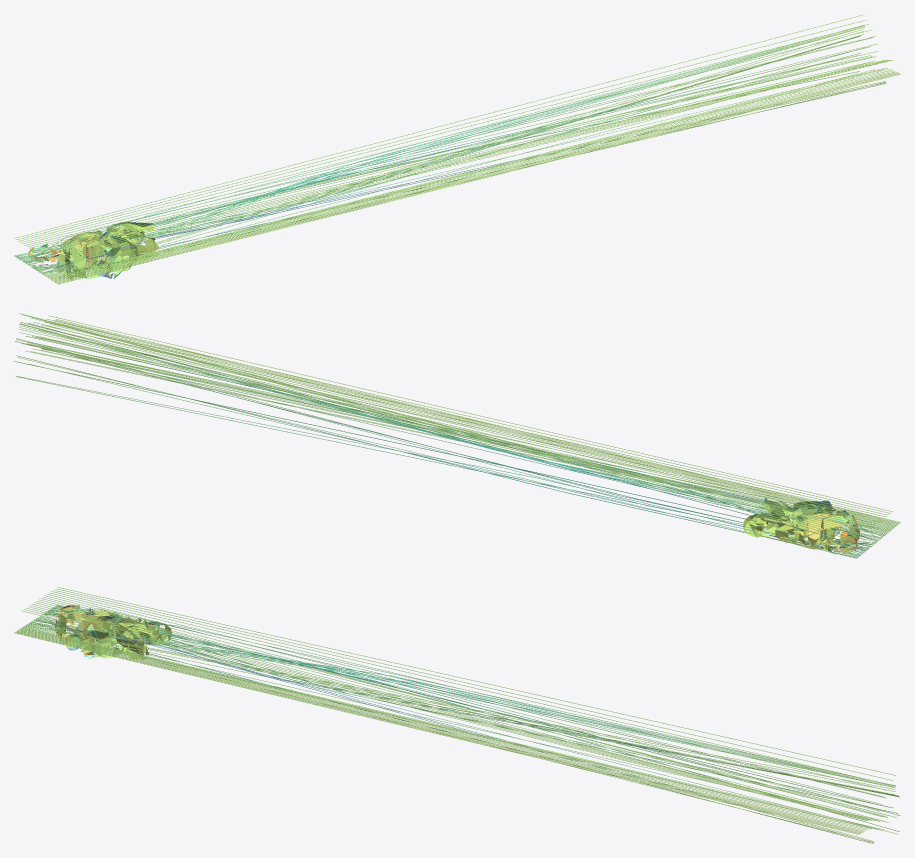
The model's file is hero.gltf.
The picture shows the model from 3 angles, top to bottom: view 1: azimuth 30°, elevation 25°; view 2: azimuth 150°, elevation 25°; view 3: azimuth 330°, elevation 25°; orthographic projection.
Parts seen in each view (by area): view 1: Renderer Node; view 2: Renderer Node; view 3: Renderer Node.
Part boxes in pixels (<box>): Renderer Node: <box>14,14,900,284</box>; Renderer Node: <box>14,313,900,558</box>; Renderer Node: <box>14,587,900,843</box>.
Size of the model in its own units: 15.46 by 1.08 by 1.46.
